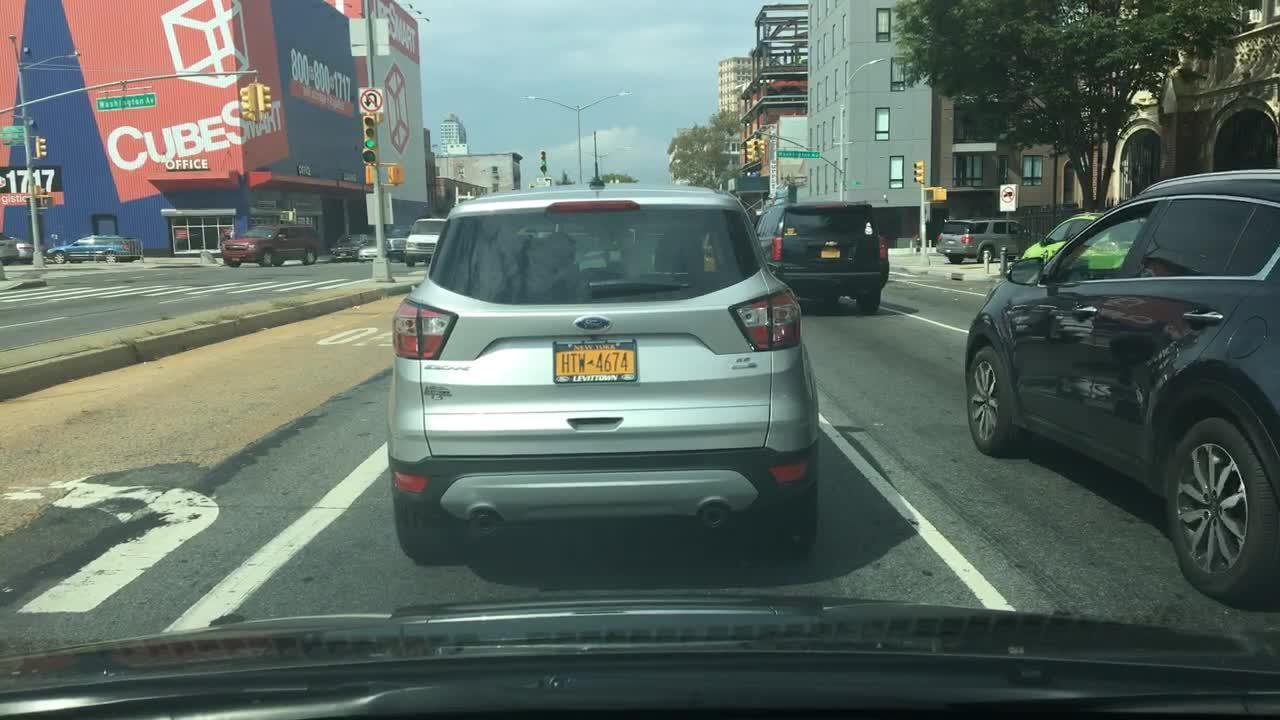chevrolet: (824, 237, 843, 251)
ford: (568, 309, 621, 337)
